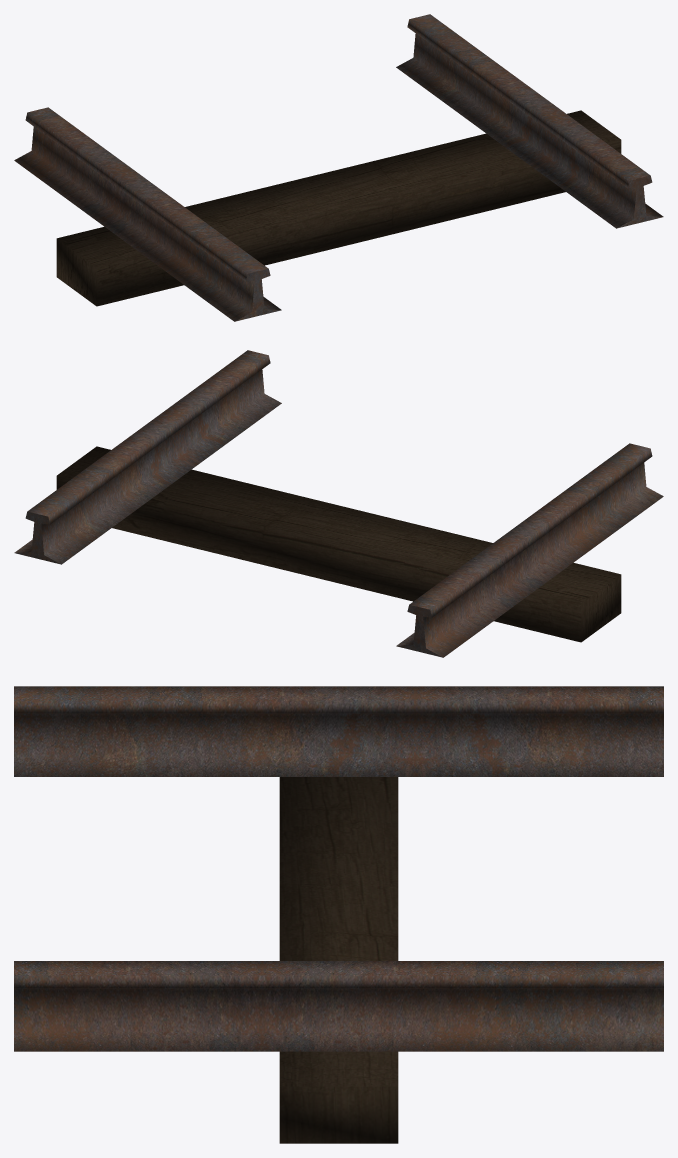
Rendered from Trilho.fbx.
3 renders of one model, top to bottom at view 1: azimuth 30°, elevation 25°; view 2: azimuth 150°, elevation 25°; view 3: azimuth 270°, elevation 25°, orthographic. The views are drawn at different scales.
Visible parts, largest first — view 1: Rail, Tie; view 2: Rail, Tie; view 3: Rail, Tie.
Part boxes in pixels (bbox=[...]): Rail: bbox=[14, 14, 663, 321]; Tie: bbox=[56, 110, 621, 306]; Rail: bbox=[14, 350, 663, 657]; Tie: bbox=[56, 446, 621, 642]; Rail: bbox=[14, 686, 663, 1051]; Tie: bbox=[279, 777, 398, 1143].
Size of the model in its own units: 137 by 20.98 by 100.
